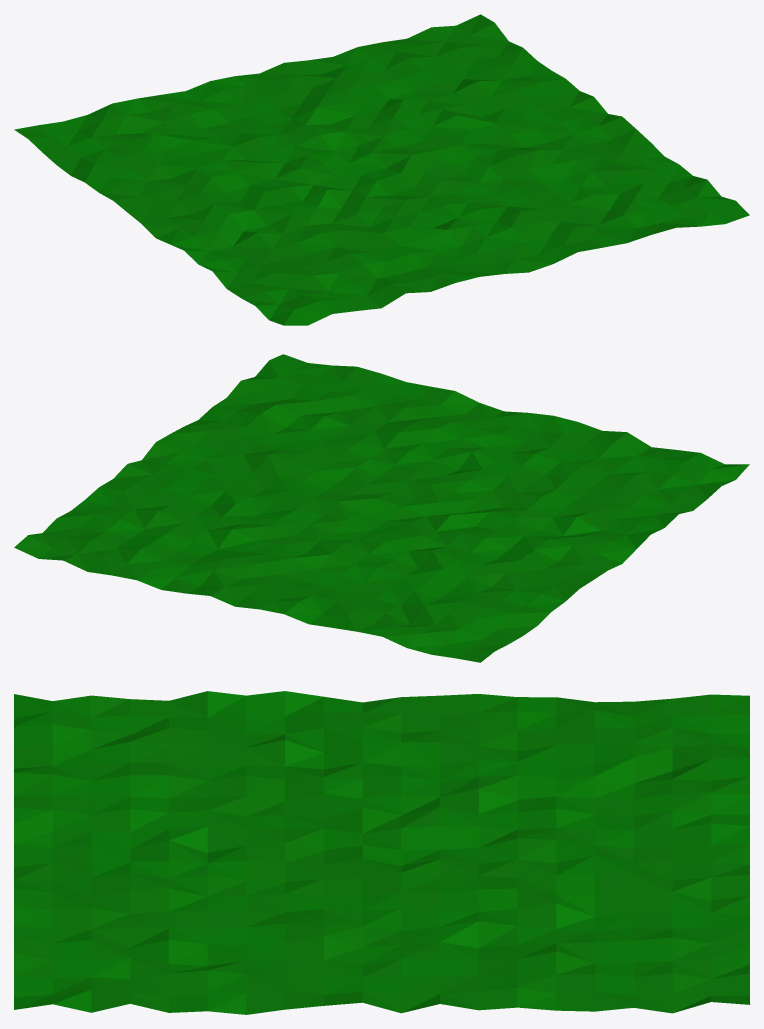
Rendered from landscapeV2.dae.
3 renders of one model, top to bottom at view 1: azimuth 30°, elevation 25°; view 2: azimuth 150°, elevation 25°; view 3: azimuth 270°, elevation 25°, orthographic. The views are drawn at different scales.
Parts seen in each view (by area): view 1: Grid; view 2: Grid; view 3: Grid.
Part boxes in pixels (x1,y1,x2,y2): Grid: (14,14,749,325); Grid: (14,354,749,662); Grid: (14,691,749,1014).
Bounding box in the file's own units: 50 × 50 × 1.18.
Materials: 1 (1 with a texture image).
